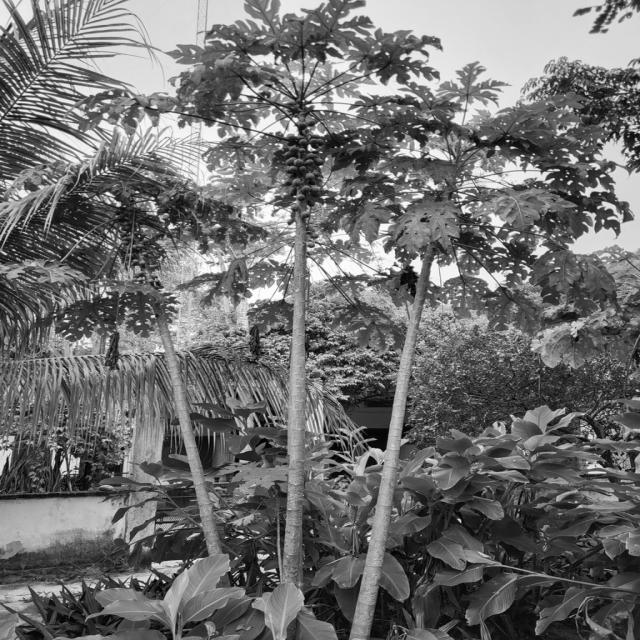Papaya-Tree: (336, 119, 524, 640), (231, 44, 363, 640), (106, 172, 233, 556)
